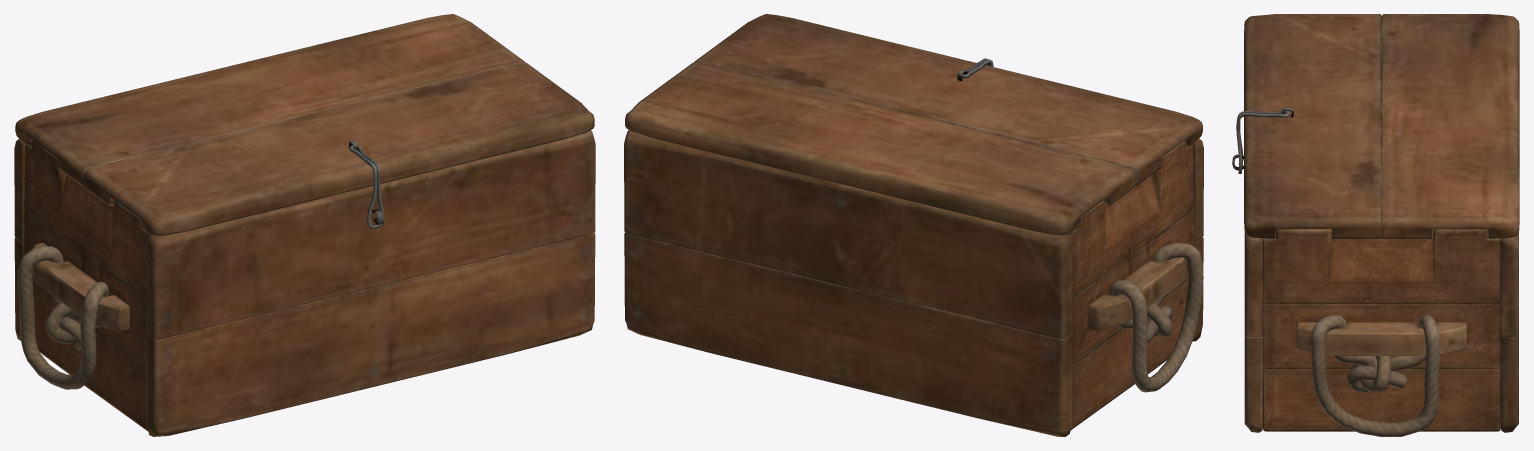
The model's file is wooden_crate_01.glb.
3 views of the same model, side by side, from view 1: azimuth 30°, elevation 25°; view 2: azimuth 150°, elevation 25°; view 3: azimuth 270°, elevation 25° (orthographic). The views are drawn at different scales.
Visible parts, largest first — view 1: wooden_crate_01, wooden_crate_01_lid, wooden_crate_01_latch; view 2: wooden_crate_01, wooden_crate_01_lid; view 3: wooden_crate_01_lid, wooden_crate_01, wooden_crate_01_latch.
Part boxes in pixels (<box>): wooden_crate_01: <box>14,130,595,436</box>; wooden_crate_01_lid: <box>15,14,594,236</box>; wooden_crate_01_latch: <box>349,145,384,228</box>; wooden_crate_01: <box>624,130,1203,436</box>; wooden_crate_01_lid: <box>625,14,1202,235</box>; wooden_crate_01_lid: <box>1244,14,1519,238</box>; wooden_crate_01: <box>1232,154,1518,436</box>; wooden_crate_01_latch: <box>1236,111,1289,173</box>.
Bounding box in the file's own units: 0.8253 × 0.3496 × 0.409.
Materials: 1 (1 with a texture image).
